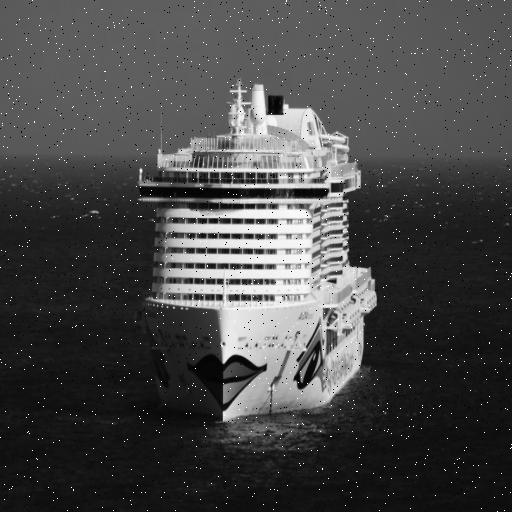cruises: (133, 82, 384, 434)
